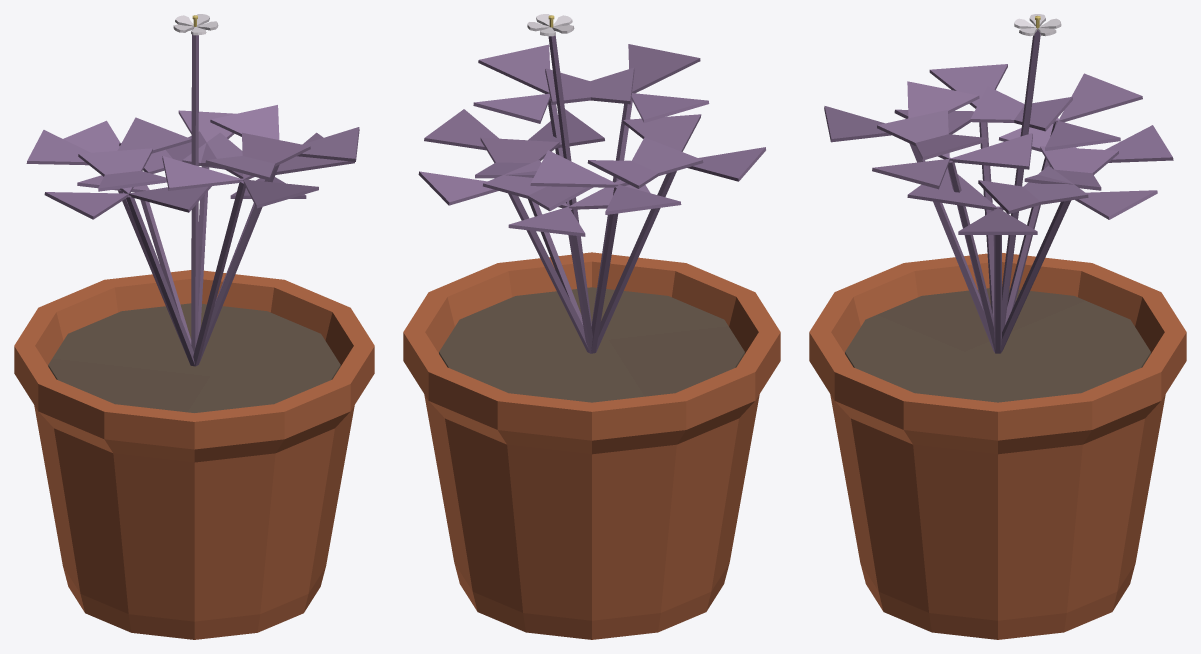
The model's file is oxalis.glb.
3 views of the same model, side by side, from view 1: azimuth 30°, elevation 25°; view 2: azimuth 150°, elevation 25°; view 3: azimuth 270°, elevation 25° (orthographic). The views are drawn at different scales.
Visible parts, largest first — view 1: oxalis/review-terra-vessel, oxalis/review-rooted-soil, oxalis/petiole-029, oxalis/petiole-009, oxalis/triangular-trifoliate-leaf-012, oxalis/petiole-017, oxalis/triangular-trifoliate-leaf-023, oxalis/triangular-trifoliate-leaf-020, oxalis/triangular-trifoliate-leaf-008, oxalis/triangular-trifoliate-leaf-011, oxalis/triangular-trifoliate-leaf-006, oxalis/triangular-trifoliate-leaf-022 (+14 smaller); view 2: oxalis/review-terra-vessel, oxalis/review-rooted-soil, oxalis/triangular-trifoliate-leaf-022, oxalis/triangular-trifoliate-leaf-010, oxalis/triangular-trifoliate-leaf-008, oxalis/triangular-trifoliate-leaf-019, oxalis/triangular-trifoliate-leaf-002, oxalis/petiole-017, oxalis/triangular-trifoliate-leaf-007, oxalis/triangular-trifoliate-leaf-016, oxalis/triangular-trifoliate-leaf-018, oxalis/triangular-trifoliate-leaf-014 (+18 smaller); view 3: oxalis/review-terra-vessel, oxalis/review-rooted-soil, oxalis/triangular-trifoliate-leaf-006, oxalis/petiole-029, oxalis/triangular-trifoliate-leaf-018, oxalis/triangular-trifoliate-leaf-023, oxalis/triangular-trifoliate-leaf-012, oxalis/triangular-trifoliate-leaf-024, oxalis/triangular-trifoliate-leaf-026, oxalis/triangular-trifoliate-leaf-004, oxalis/triangular-trifoliate-leaf-015, oxalis/triangular-trifoliate-leaf-010 (+18 smaller).
Part boxes in pixels (bbox=[...]): oxalis/review-terra-vessel: bbox=[14, 270, 374, 639]; oxalis/review-rooted-soil: bbox=[48, 303, 340, 412]; oxalis/petiole-029: bbox=[191, 28, 198, 352]; oxalis/petiole-009: bbox=[193, 178, 245, 366]; oxalis/triangular-trifoliate-leaf-012: bbox=[162, 156, 243, 190]; oxalis/petiole-017: bbox=[126, 192, 194, 366]; oxalis/triangular-trifoliate-leaf-023: bbox=[210, 105, 279, 139]; oxalis/triangular-trifoliate-leaf-020: bbox=[78, 148, 152, 193]; oxalis/triangular-trifoliate-leaf-008: bbox=[117, 117, 191, 153]; oxalis/triangular-trifoliate-leaf-011: bbox=[242, 132, 310, 179]; oxalis/triangular-trifoliate-leaf-006: bbox=[26, 130, 90, 165]; oxalis/triangular-trifoliate-leaf-022: bbox=[297, 127, 359, 161]; oxalis/review-terra-vessel: bbox=[403, 252, 780, 639]; oxalis/review-rooted-soil: bbox=[439, 287, 744, 402]; oxalis/triangular-trifoliate-leaf-022: bbox=[478, 44, 550, 93]; oxalis/triangular-trifoliate-leaf-010: bbox=[628, 44, 700, 93]; oxalis/triangular-trifoliate-leaf-008: bbox=[530, 150, 618, 187]; oxalis/triangular-trifoliate-leaf-019: bbox=[623, 114, 701, 151]; oxalis/triangular-trifoliate-leaf-002: bbox=[424, 109, 498, 150]; oxalis/petiole-017: bbox=[596, 171, 676, 352]; oxalis/triangular-trifoliate-leaf-007: bbox=[619, 137, 703, 185]; oxalis/triangular-trifoliate-leaf-016: bbox=[480, 137, 559, 162]; oxalis/triangular-trifoliate-leaf-018: bbox=[687, 147, 765, 181]; oxalis/triangular-trifoliate-leaf-014: bbox=[418, 171, 498, 205]; oxalis/review-terra-vessel: bbox=[809, 253, 1186, 639]; oxalis/review-rooted-soil: bbox=[845, 288, 1150, 402]; oxalis/triangular-trifoliate-leaf-006: bbox=[1058, 73, 1142, 122]; oxalis/petiole-029: bbox=[1002, 29, 1040, 331]; oxalis/triangular-trifoliate-leaf-018: bbox=[929, 64, 1007, 108]; oxalis/triangular-trifoliate-leaf-023: bbox=[949, 133, 1032, 169]; oxalis/triangular-trifoliate-leaf-012: bbox=[907, 81, 979, 118]; oxalis/triangular-trifoliate-leaf-024: bbox=[877, 110, 949, 159]; oxalis/triangular-trifoliate-leaf-026: bbox=[1105, 125, 1173, 162]; oxalis/triangular-trifoliate-leaf-004: bbox=[907, 168, 997, 210]; oxalis/triangular-trifoliate-leaf-015: bbox=[1040, 146, 1118, 174]; oxalis/triangular-trifoliate-leaf-010: bbox=[824, 106, 891, 142].
Bounding box in the file's own units: 0.19 × 0.3211 × 0.19.
Materials: 5 (5 with a texture image).
